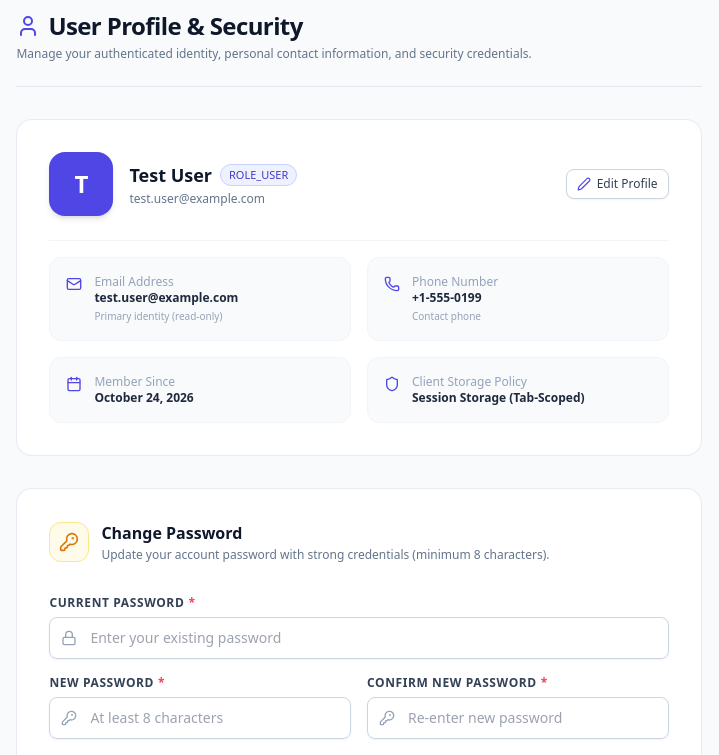
Test: User Profile and Password Change Tests › 4. Cancels profile edit mode and restores original values
Expected: the element with test id "profile-card" is shown, left=16, top=119, right=702, bottom=456
Click the button with test id "edit-profile-button": x=617, y=184 left=566, top=169, right=669, bottom=199
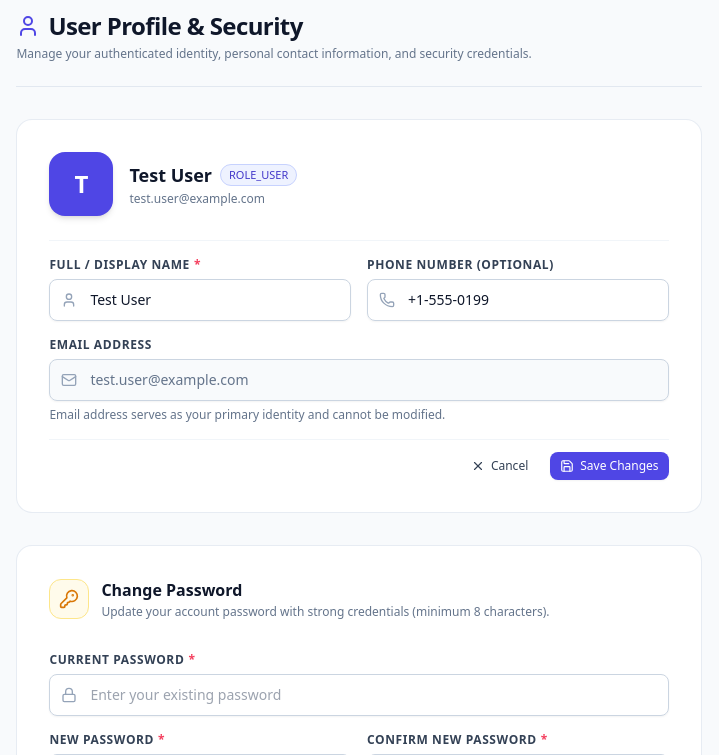
Replace the text in the field with test id "profile-name-input" with "Discarded Changes": x=200, y=300 left=49, top=279, right=351, bottom=321
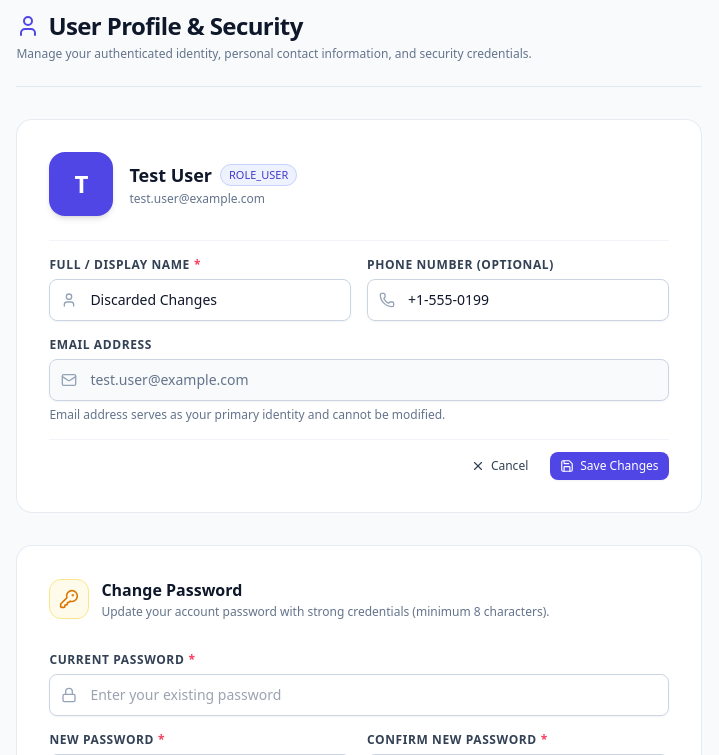
// Click Cancel
Click the button with test id "cancel-profile-button": x=500, y=466 left=461, top=452, right=538, bottom=480
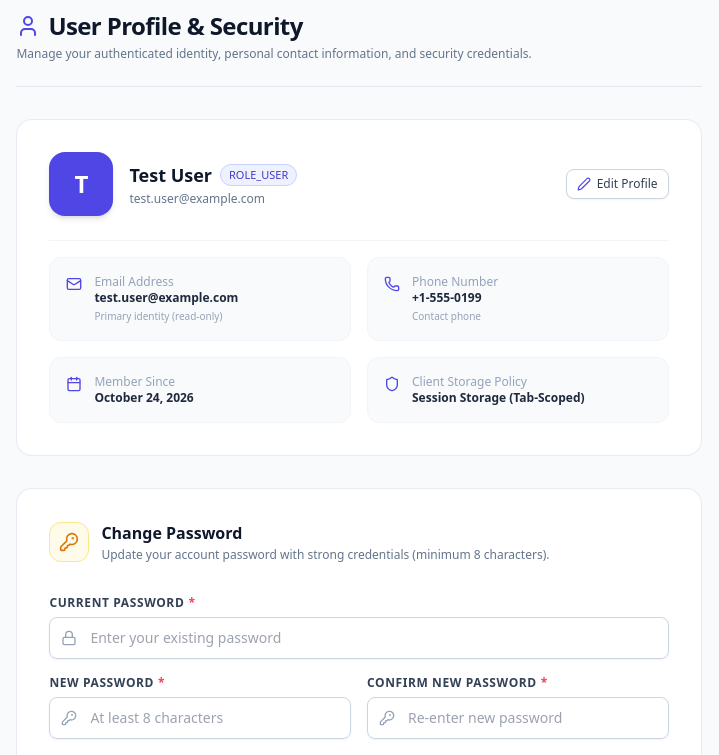
Expected: the heading with test id "profile-display-name" reads "Test User", left=129, top=163, right=212, bottom=187
Result: the form with test id "profile-edit-form" is gone
